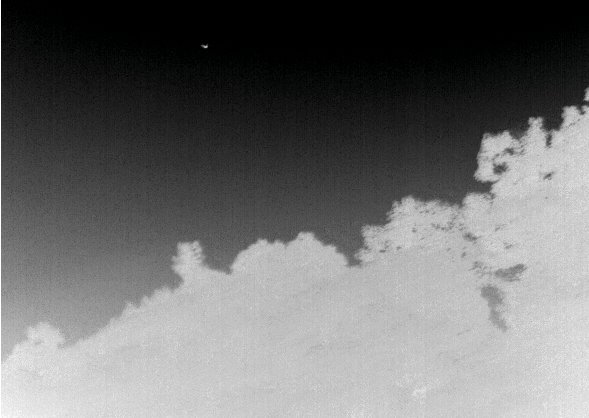dim target: (201, 44, 209, 49)
